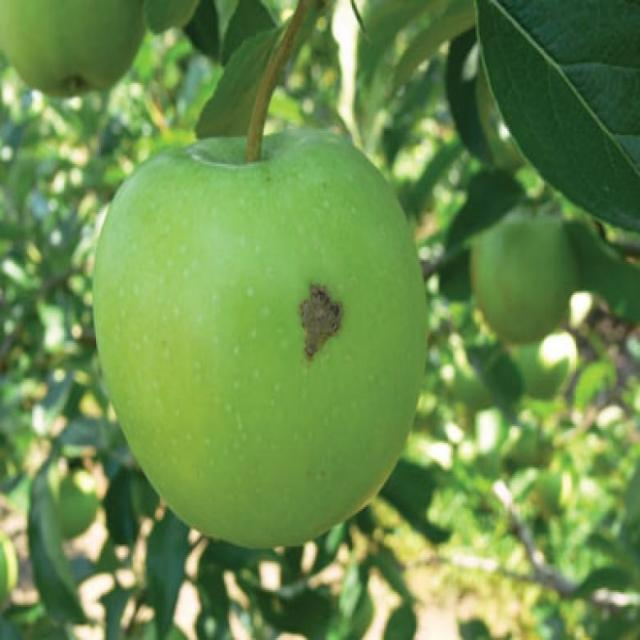Apple: (74, 130, 437, 552)
